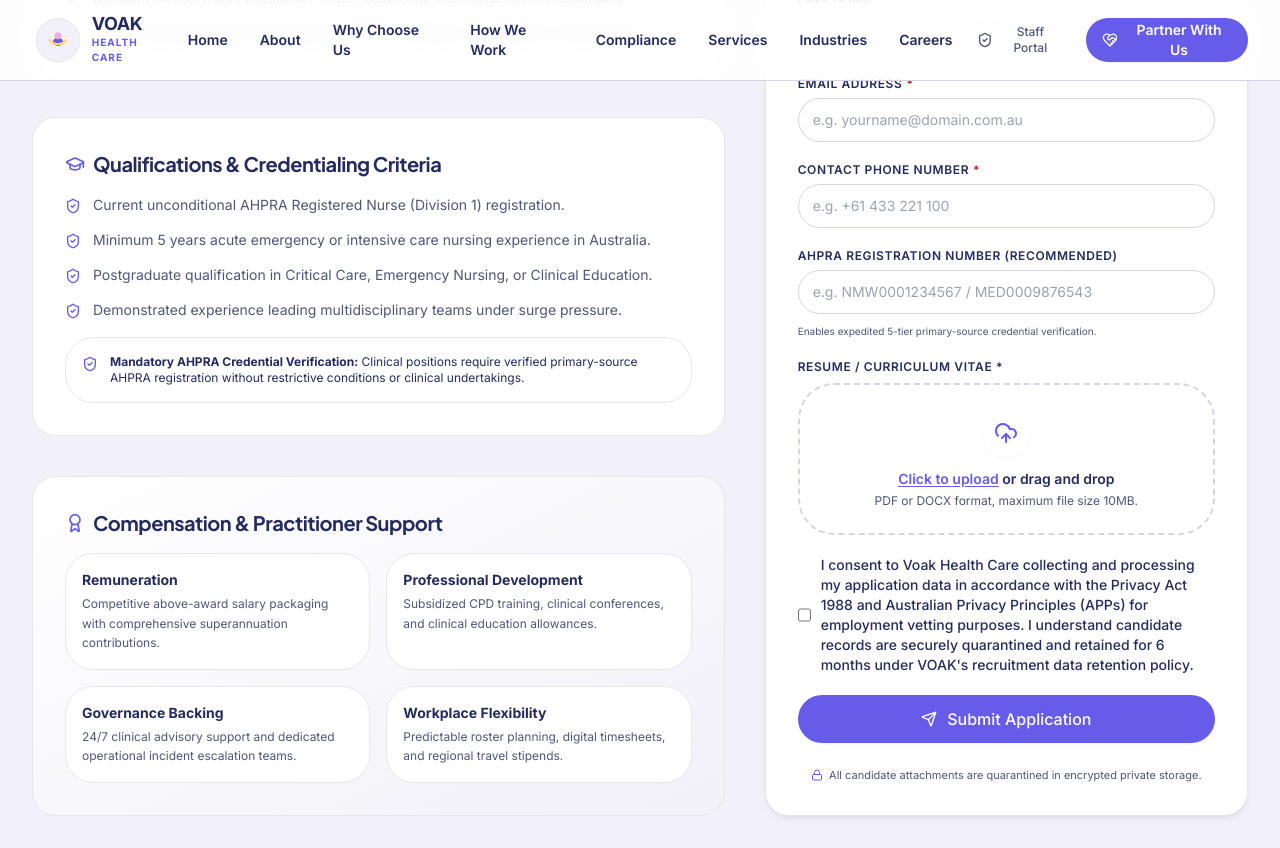
Test case: Phase 23 — Careers Portal Suite › FORM-PUB-04: Candidate Application & Resume Upload Interactions › validates client-side required fields and shows validation summary
(page scrolled)
Step 1. Click the button "Submit Application" → [1006, 718], box left=798, top=694, right=1215, bottom=742
(page scrolled)
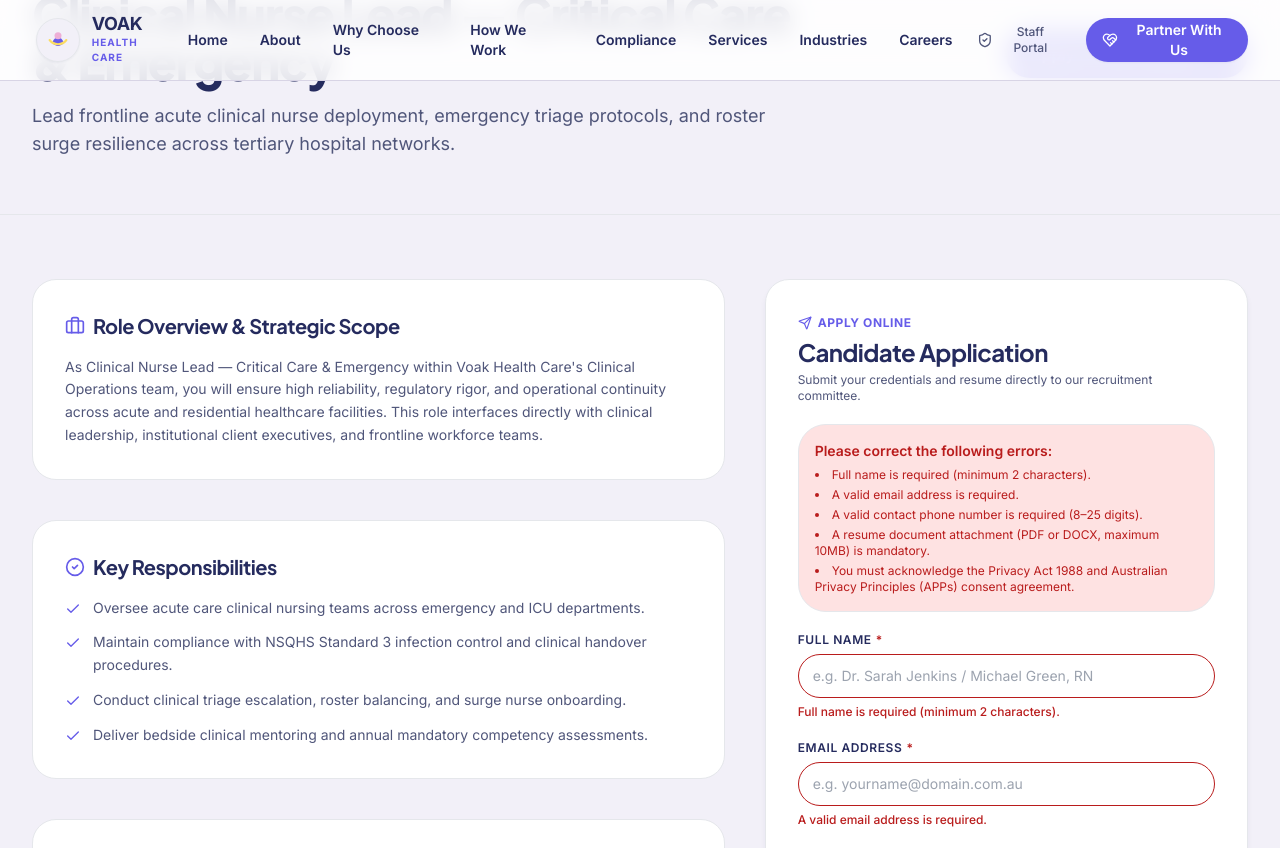
expect the text "Please correct the following errors:" is shown: met, box left=815, top=442, right=1052, bottom=458
